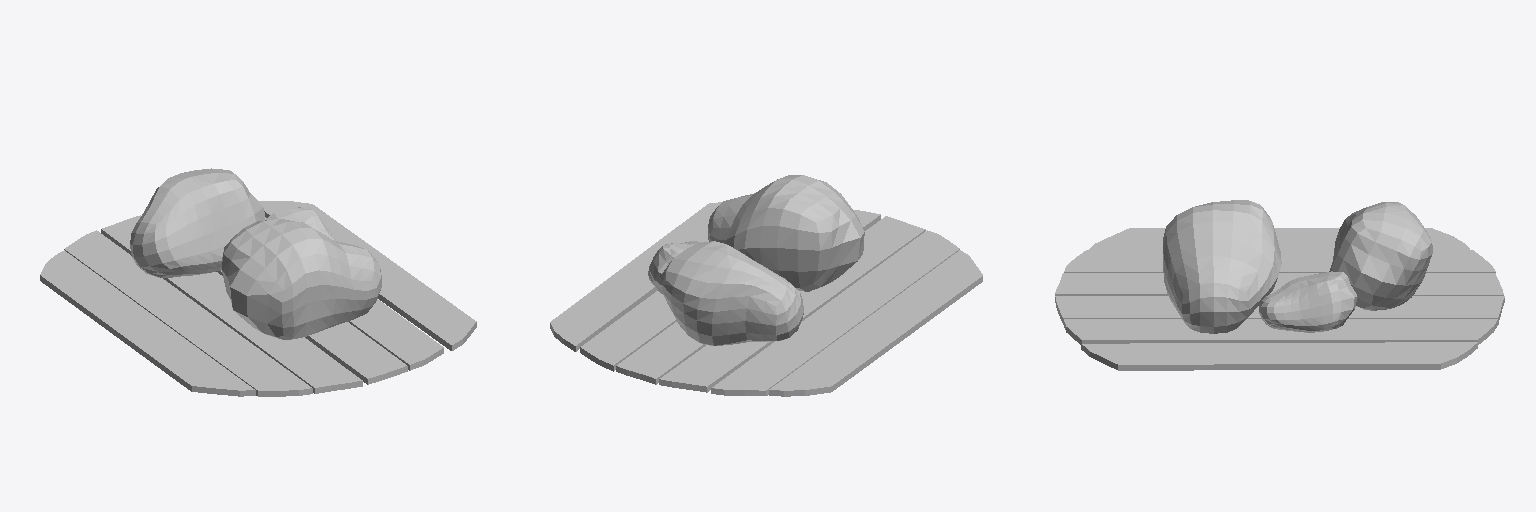
File: wellLid.obj
3 renders of one model, left to right at view 1: azimuth 30°, elevation 25°; view 2: azimuth 150°, elevation 25°; view 3: azimuth 270°, elevation 25°, orthographic.
Visible parts, largest first — view 1: pCube10; view 2: pCube10; view 3: pCube10.
Part boxes in pixels (x1,y1,x2,y2): pCube10: (40,168,476,396); pCube10: (550,175,982,396); pCube10: (1055,200,1504,370).
Bounding box in the file's own units: 3.11 × 1.06 × 4.33.